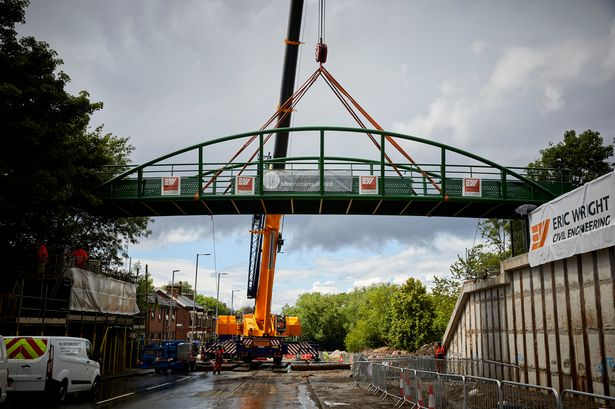bridge: (77, 121, 542, 215)
